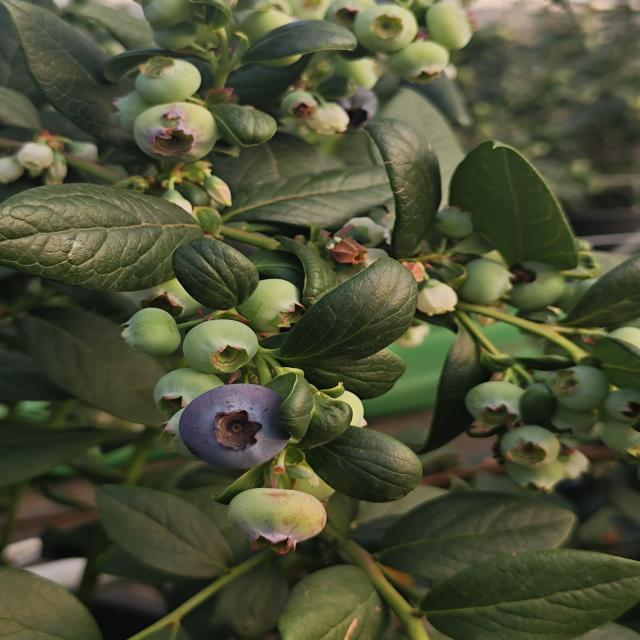ripe: (175, 382, 294, 472)
